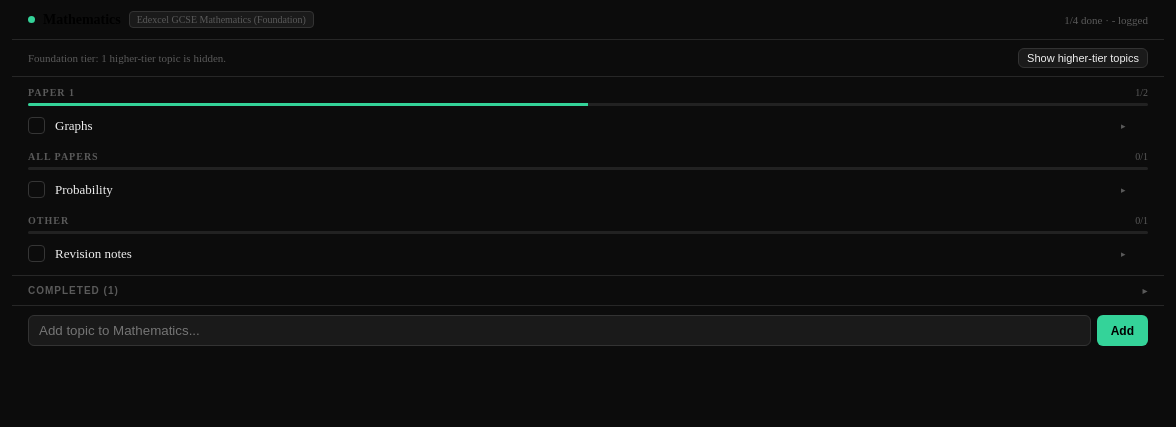
Test: TopicList with papers › hides higher-only topics on Foundation until the toggle is pressed
Expected: the text "Circle theorems" is not shown
Expected: the text "1/4 done" is shown, [1064, 14, 1148, 26]
Click the button "Show higher-tier topics". click: x=1083, y=58
box: [1018, 48, 1148, 68]
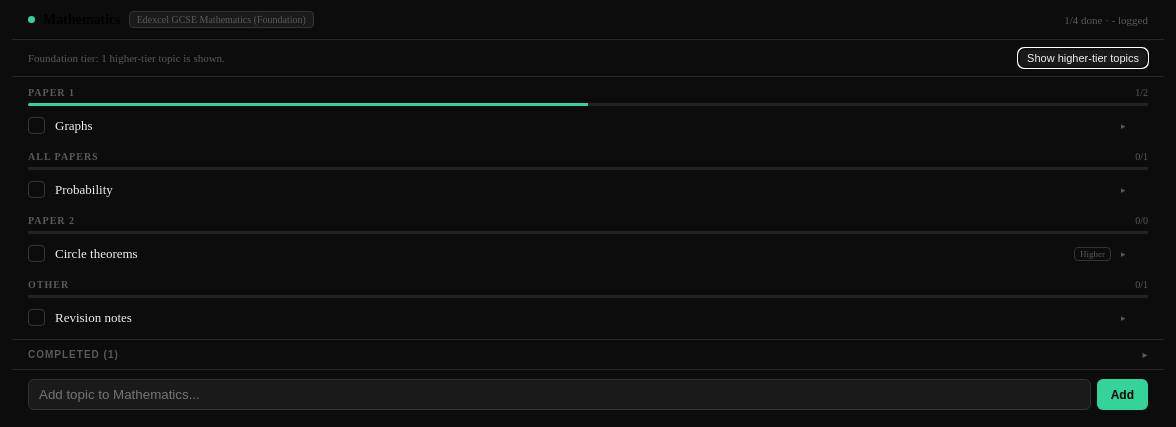
Expected: the text "1/4 done" is shown, [1064, 14, 1148, 26]
Now the text "Circle theorems" is shown, box [55, 246, 138, 260]
Now the text "Higher" is shown, box [1074, 246, 1111, 260]
